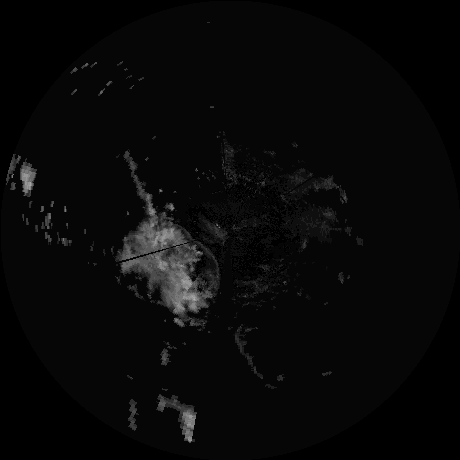frontgust: (232, 325, 264, 381), (201, 244, 221, 289)
